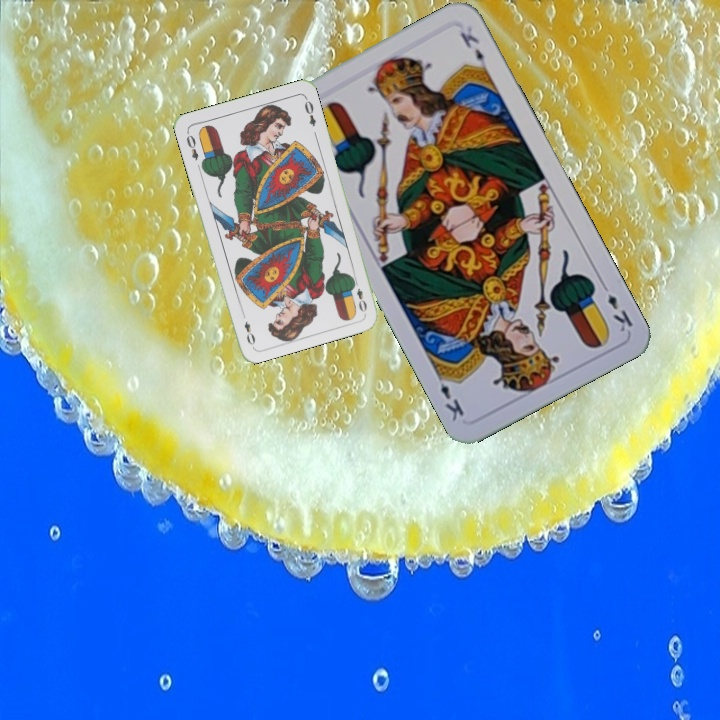EK: (597, 278, 636, 335)
EO: (349, 275, 369, 315), (182, 128, 201, 163)
